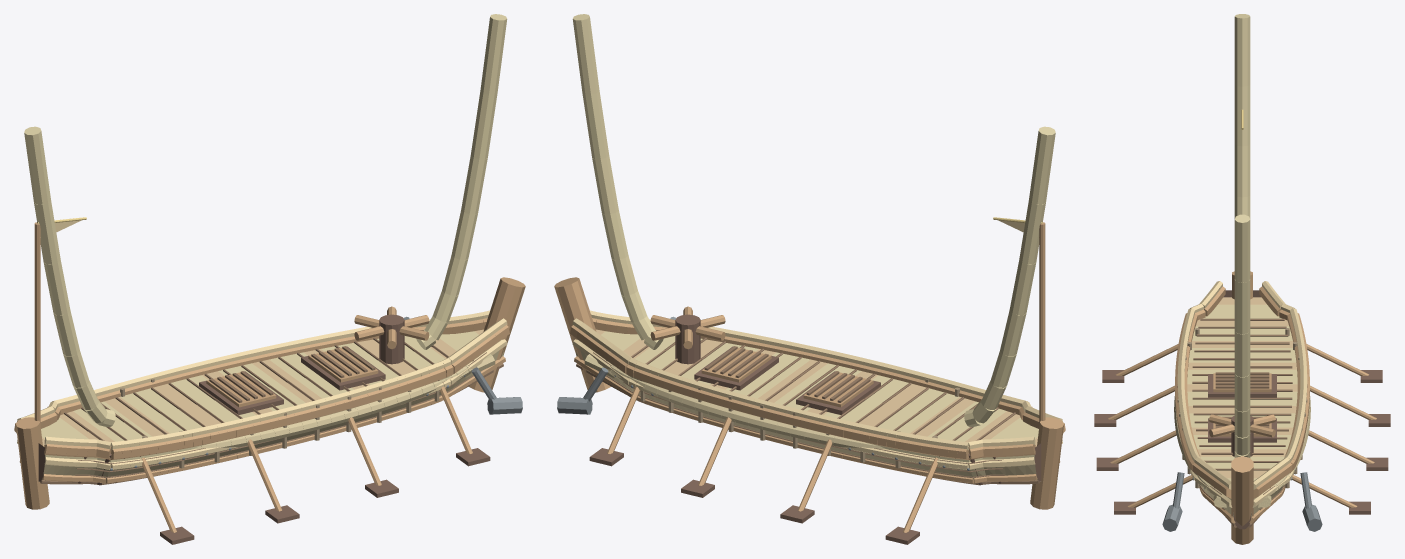
Rendered from nile_papyrus-v5.glb.
The picture shows the model from 3 angles, left to right: view 1: azimuth 30°, elevation 25°; view 2: azimuth 150°, elevation 25°; view 3: azimuth 270°, elevation 25°; orthographic projection. The views are drawn at different scales.
Visible parts, largest first — view 1: nile_papyrus_hull_reed2, nile_papyrus_hull_wood, nile_papyrus_hull_pale, nile_papyrus_hull_seam, nile_papyrus_hull_decklight, nile_papyrus_fittings_wood, nile_papyrus_ornament_reed, nile_papyrus_fittings_darkwood, nile_papyrus_hull_reed, nile_papyrus_oars_wood, nile_papyrus_fittings_seam, nile_papyrus_oars_darkwood (+3 smaller); view 2: nile_papyrus_hull_reed2, nile_papyrus_hull_wood, nile_papyrus_hull_pale, nile_papyrus_hull_seam, nile_papyrus_hull_decklight, nile_papyrus_fittings_wood, nile_papyrus_ornament_reed, nile_papyrus_fittings_darkwood, nile_papyrus_hull_reed, nile_papyrus_oars_wood, nile_papyrus_fittings_seam, nile_papyrus_oars_darkwood (+3 smaller); view 3: nile_papyrus_hull_reed2, nile_papyrus_hull_wood, nile_papyrus_hull_pale, nile_papyrus_hull_decklight, nile_papyrus_hull_seam, nile_papyrus_oars_wood, nile_papyrus_oars_darkwood, nile_papyrus_fittings_wood, nile_papyrus_fittings_iron, nile_papyrus_fittings_darkwood, nile_papyrus_fittings_seam, nile_papyrus_ornament_reed (+1 smaller).
Boxes of the visible parts, left/top/right/bottom form: nile_papyrus_hull_reed2: left=24, top=14, right=507, bottom=480; nile_papyrus_hull_wood: left=14, top=277, right=525, bottom=509; nile_papyrus_hull_pale: left=17, top=310, right=507, bottom=469; nile_papyrus_hull_seam: left=40, top=337, right=503, bottom=485; nile_papyrus_hull_decklight: left=42, top=329, right=483, bottom=446; nile_papyrus_fittings_wood: left=206, top=306, right=429, bottom=407; nile_papyrus_ornament_reed: left=194, top=365, right=476, bottom=449; nile_papyrus_fittings_darkwood: left=199, top=314, right=404, bottom=414; nile_papyrus_hull_reed: left=39, top=350, right=503, bottom=481; nile_papyrus_oars_wood: left=141, top=386, right=472, bottom=532; nile_papyrus_fittings_seam: left=209, top=346, right=375, bottom=402; nile_papyrus_oars_darkwood: left=160, top=448, right=490, bottom=544; nile_papyrus_hull_reed2: left=572, top=14, right=1055, bottom=480; nile_papyrus_hull_wood: left=554, top=277, right=1065, bottom=509; nile_papyrus_hull_pale: left=572, top=310, right=1062, bottom=469; nile_papyrus_hull_seam: left=576, top=337, right=1039, bottom=485; nile_papyrus_hull_decklight: left=596, top=329, right=1037, bottom=446; nile_papyrus_fittings_wood: left=650, top=306, right=873, bottom=407; nile_papyrus_ornament_reed: left=603, top=365, right=885, bottom=449; nile_papyrus_fittings_darkwood: left=675, top=314, right=880, bottom=414; nile_papyrus_hull_reed: left=576, top=350, right=1040, bottom=481; nile_papyrus_oars_wood: left=607, top=386, right=938, bottom=532; nile_papyrus_fittings_seam: left=704, top=346, right=870, bottom=402; nile_papyrus_oars_darkwood: left=589, top=448, right=919, bottom=544; nile_papyrus_hull_reed2: left=1187, top=14, right=1297, bottom=523; nile_papyrus_hull_wood: left=1175, top=271, right=1309, bottom=544; nile_papyrus_hull_pale: left=1177, top=281, right=1307, bottom=507; nile_papyrus_hull_decklight: left=1187, top=297, right=1297, bottom=478; nile_papyrus_hull_seam: left=1192, top=318, right=1292, bottom=527; nile_papyrus_oars_wood: left=1108, top=344, right=1376, bottom=507; nile_papyrus_oars_darkwood: left=1094, top=370, right=1390, bottom=514; nile_papyrus_fittings_wood: left=1209, top=373, right=1275, bottom=437; nile_papyrus_fittings_iron: left=1162, top=472, right=1322, bottom=531; nile_papyrus_fittings_darkwood: left=1208, top=374, right=1276, bottom=456; nile_papyrus_fittings_seam: left=1215, top=372, right=1269, bottom=427; nile_papyrus_ornament_reed: left=1174, top=396, right=1310, bottom=496.
Size of the model in its own units: 28.19 by 20.02 by 16.01.
